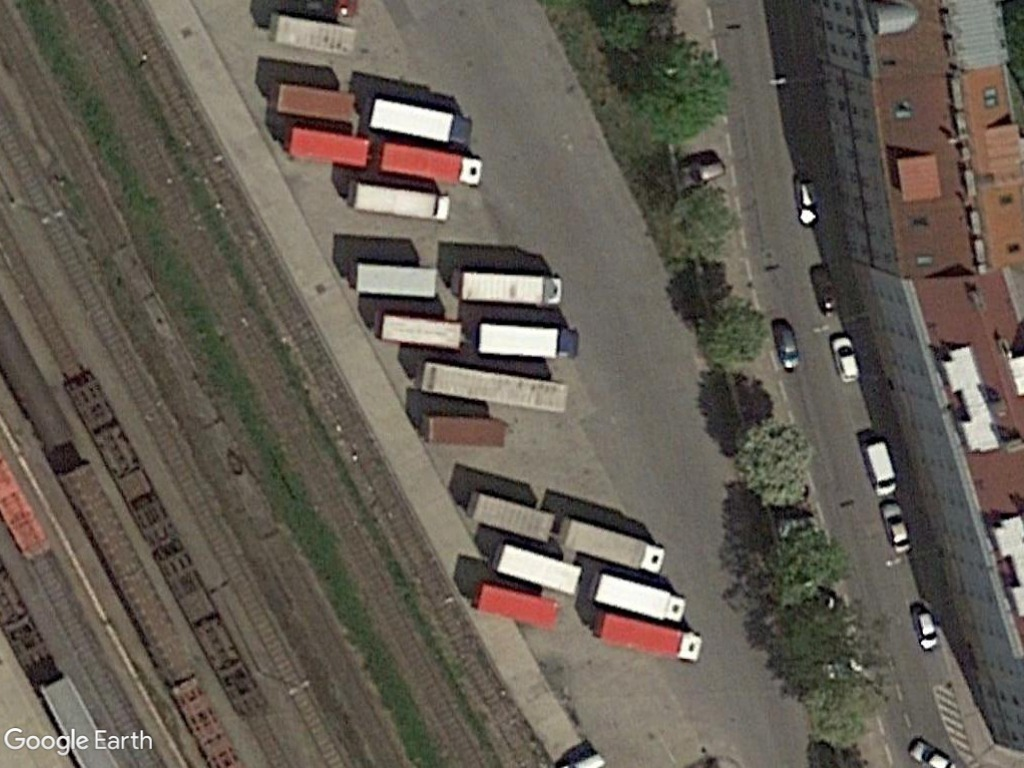car: (823, 327, 863, 391), (905, 602, 945, 659), (770, 318, 804, 382), (878, 497, 910, 560)
truck: (555, 507, 670, 581), (364, 88, 477, 152), (585, 610, 705, 668), (447, 260, 572, 314), (375, 137, 487, 192), (342, 172, 453, 227), (585, 568, 693, 621), (469, 320, 584, 366)
van: (858, 437, 903, 502)
